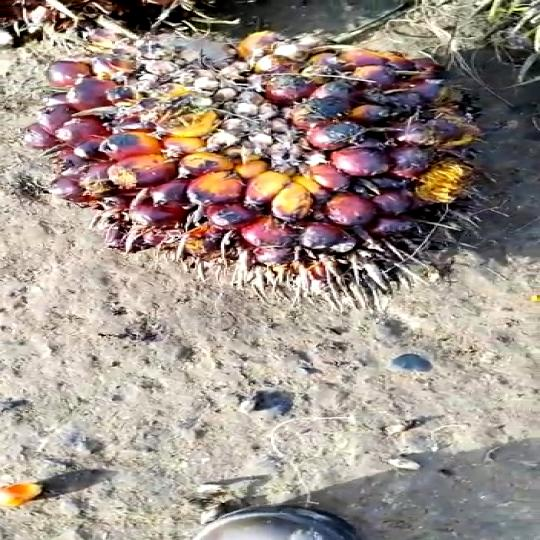masak: (30, 31, 524, 277)
